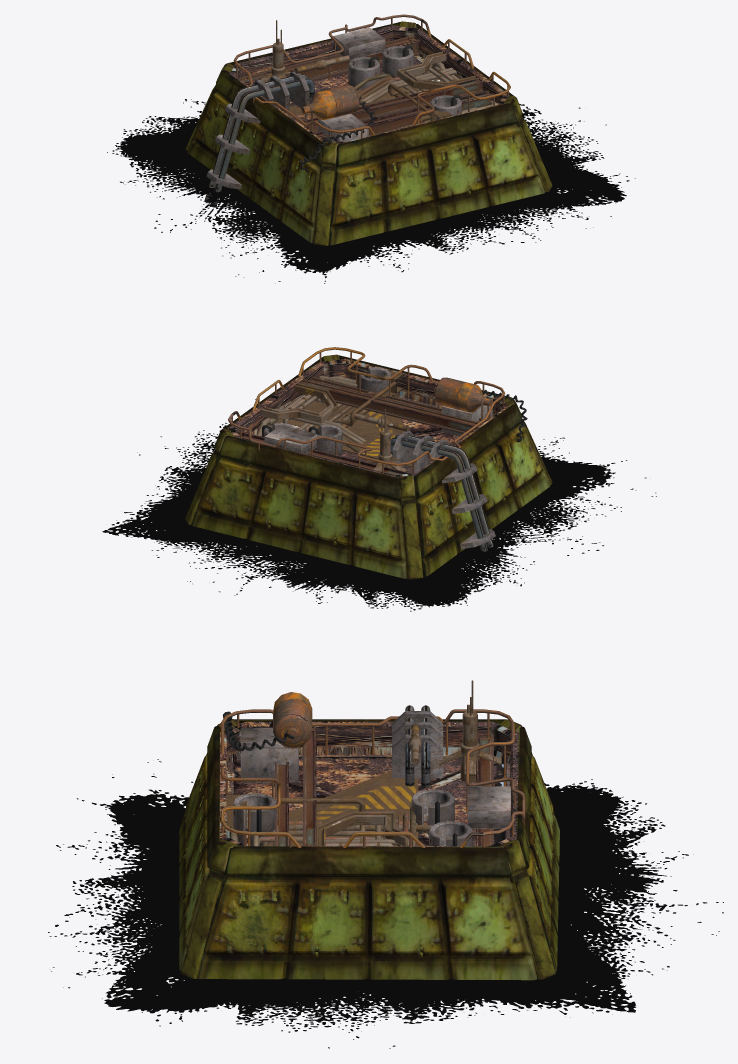
The model's file is static.fbx.
3 views of the same model, one above another, from view 1: azimuth 30°, elevation 25°; view 2: azimuth 150°, elevation 25°; view 3: azimuth 270°, elevation 25° (orthographic). The views are drawn at different scales.
Visible parts, largest first — view 1: Plane_16, scorch, Plane_8, Extrude, SM_obj_PipeWall, Sweep, Sweep_9, Cube_2_2, Plane_6, drum_remesh, Cube_1, Cube_14 (+7 smaller); view 2: scorch, Plane_4, Plane_8, Extrude, SM_obj_PipeWall, Cube_2_2, Sweep, Sweep_9, Plane, drum_remesh, Sweep_5, Boole_1 (+6 smaller); view 3: scorch, Plane_12, Extrude, SM_obj_PipeWall, Plane_4, Plane_16, Sweep, Plane_10, Plane_14, Boole_1_3, drum_remesh, Boole_1 (+10 smaller).
Boxes of the visible parts, bbox=[...] form: Plane_16: bbox=[329, 103, 545, 245]; scorch: bbox=[107, 99, 635, 283]; Plane_8: bbox=[187, 70, 322, 242]; Extrude: bbox=[229, 25, 509, 143]; SM_obj_PipeWall: bbox=[290, 62, 498, 122]; Sweep: bbox=[233, 14, 510, 135]; Sweep_9: bbox=[204, 74, 314, 207]; Cube_2_2: bbox=[298, 78, 483, 132]; Plane_6: bbox=[313, 141, 339, 245]; drum_remesh: bbox=[301, 84, 359, 120]; Cube_1: bbox=[238, 36, 419, 85]; Cube_14: bbox=[313, 90, 493, 139]; scorch: bbox=[102, 399, 656, 611]; Plane_4: bbox=[191, 436, 406, 578]; Plane_8: bbox=[413, 404, 550, 576]; Extrude: bbox=[228, 358, 508, 477]; SM_obj_PipeWall: bbox=[256, 371, 417, 514]; Cube_2_2: bbox=[298, 379, 482, 434]; Sweep: bbox=[228, 347, 505, 465]; Sweep_9: bbox=[391, 433, 496, 567]; Plane: bbox=[397, 475, 423, 579]; drum_remesh: bbox=[434, 377, 492, 412]; Sweep_5: bbox=[262, 383, 337, 423]; Boole_1: bbox=[264, 425, 316, 454]; scorch: bbox=[48, 759, 723, 1048]; Plane_12: bbox=[198, 846, 537, 980]; Extrude: bbox=[220, 721, 518, 846]; SM_obj_PipeWall: bbox=[226, 770, 431, 846]; Plane_4: bbox=[516, 726, 559, 971]; Plane_16: bbox=[179, 726, 219, 970]; Sweep: bbox=[220, 709, 525, 847]; Plane_10: bbox=[497, 840, 555, 979]; Plane_14: bbox=[181, 839, 238, 978]; Boole_1_3: bbox=[240, 728, 298, 782]; drum_remesh: bbox=[273, 692, 312, 748]; Boole_1: bbox=[467, 786, 510, 828].
Bounding box in the file's own units: 1062 × 336 × 1062.
Materials: 10 (9 with a texture image).
